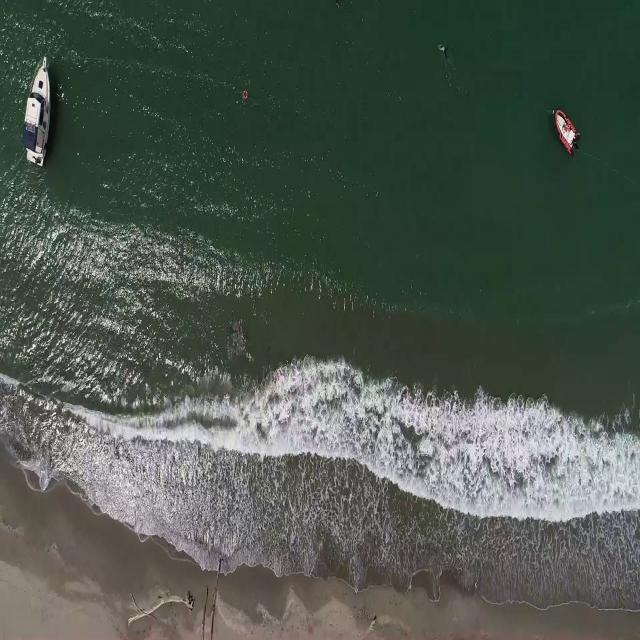boat: (20, 54, 50, 159), (550, 108, 581, 155)
life_buoy: (240, 88, 250, 102)
person: (436, 39, 451, 64)
wood: (126, 590, 194, 624), (199, 560, 220, 640)
